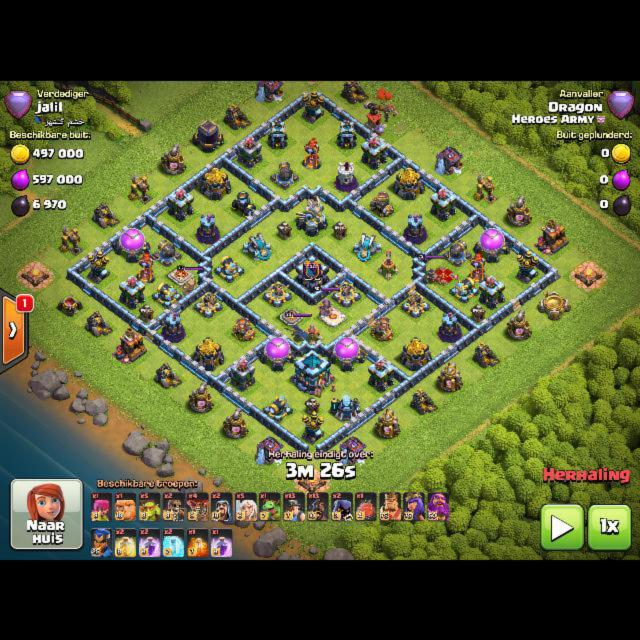AD: (301, 88, 324, 122), (301, 410, 324, 444), (87, 249, 110, 283), (516, 249, 539, 283)
AirSweeper: (377, 250, 399, 279), (302, 323, 323, 346)
BombTower: (268, 117, 286, 148), (338, 118, 356, 148)
Canon: (269, 160, 299, 188), (262, 395, 293, 422), (442, 239, 472, 266), (151, 239, 181, 266), (214, 255, 244, 282), (449, 276, 479, 302), (152, 281, 182, 307)
ClanCastle: (296, 254, 329, 294)
Eagle: (295, 195, 327, 236)
Inferno: (303, 138, 321, 169), (136, 252, 154, 282), (468, 252, 486, 282)
KingPad: (168, 266, 194, 285)
Mortar: (230, 190, 256, 217), (369, 190, 394, 216), (370, 316, 393, 341), (232, 316, 255, 341)
QueenPad: (431, 265, 458, 286)
RcPad: (280, 308, 302, 325)
Scattershot: (353, 232, 382, 261), (242, 231, 270, 260)
TH13: (293, 347, 331, 394)
WardenPad: (321, 308, 346, 325)
WizzTower: (162, 312, 185, 342), (404, 212, 426, 243), (197, 213, 219, 244), (438, 311, 460, 341), (336, 160, 357, 190)
Xbow: (401, 291, 430, 318), (193, 291, 223, 317), (263, 281, 292, 307), (332, 281, 361, 307)
